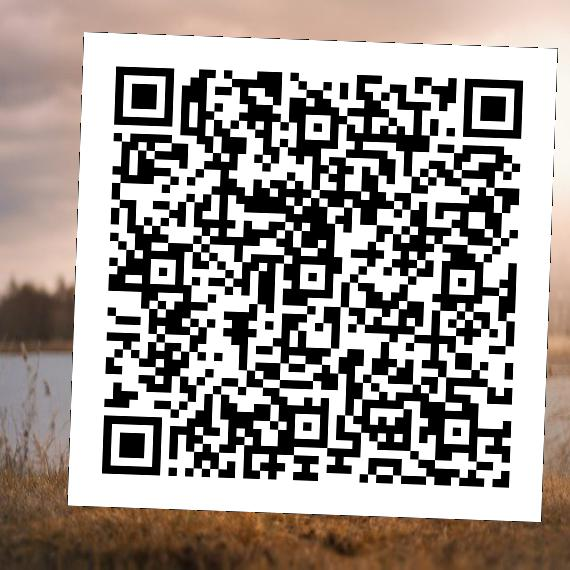qr_code: (67, 32, 557, 522)
